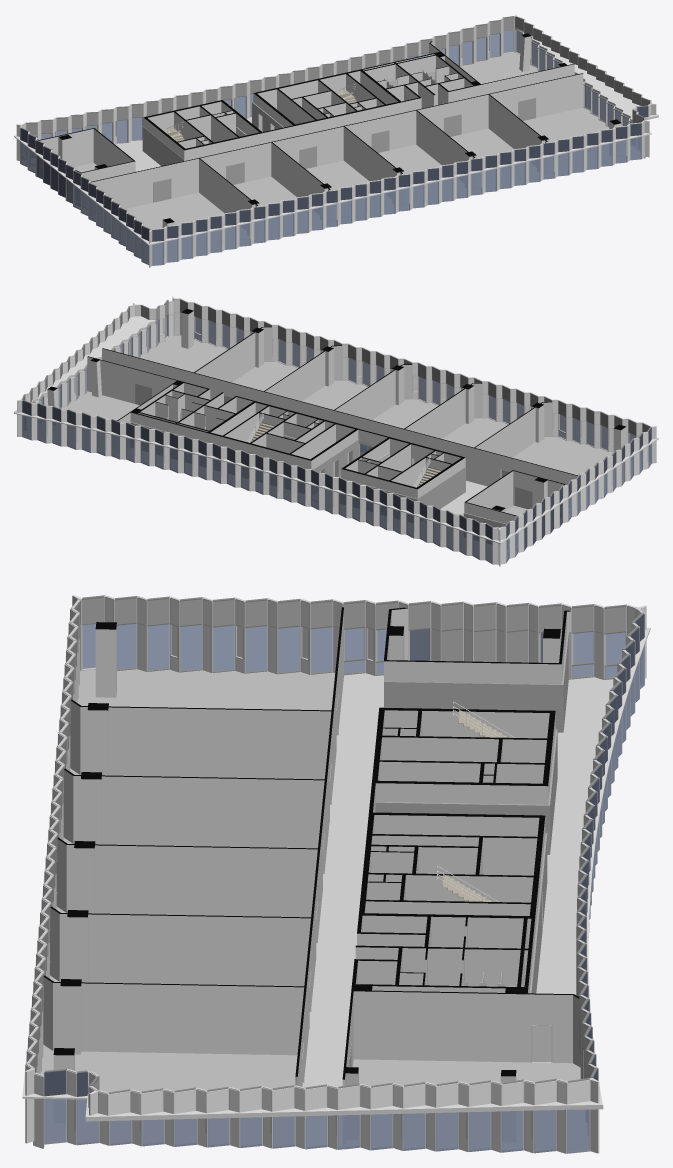
3 views of the same model, one above another, from view 1: azimuth 30°, elevation 25°; view 2: azimuth 150°, elevation 25°; view 3: azimuth 270°, elevation 25° (orthographic). The views are drawn at different scales.
Visible parts, largest first — view 1: A5-11F_Wall, A5-11F_GlassFrame, A5-11F_Glass, A5-11F_Floor, A5-11F_Exterior, A5-11F_Door, A5-11F_Pillar, A5-11F_Wall2, A5-11F_Stairs; view 2: A5-11F_Wall, A5-11F_GlassFrame, A5-11F_Glass, A5-11F_Floor, A5-11F_Pillar, A5-11F_Exterior, A5-11F_Wall2, A5-11F_Door, A5-11F_Stairs; view 3: A5-11F_Wall, A5-11F_GlassFrame, A5-11F_Floor, A5-11F_Glass, A5-11F_Pillar, A5-11F_Wall2, A5-11F_Exterior, A5-11F_Door, A5-11F_Stairs.
Boxes of the visible parts, box(x1,y1,x2,y2) form: A5-11F_Wall: box(37, 41, 583, 240); A5-11F_GlassFrame: box(20, 16, 651, 265); A5-11F_Glass: box(20, 30, 648, 265); A5-11F_Floor: box(23, 52, 639, 263); A5-11F_Exterior: box(14, 14, 658, 267); A5-11F_Door: box(153, 97, 536, 202); A5-11F_Pillar: box(58, 33, 621, 256); A5-11F_Wall2: box(135, 102, 283, 171); A5-11F_Stairs: box(163, 83, 356, 141); A5-11F_Wall: box(87, 326, 578, 523); A5-11F_GlassFrame: box(21, 298, 651, 564); A5-11F_Glass: box(22, 306, 651, 563); A5-11F_Floor: box(24, 335, 649, 561); A5-11F_Pillar: box(47, 309, 626, 512); A5-11F_Exterior: box(14, 296, 658, 566); A5-11F_Wall2: box(130, 422, 516, 550); A5-11F_Door: box(127, 383, 532, 509); A5-11F_Stairs: box(245, 411, 441, 487); A5-11F_Wall: box(43, 607, 579, 1146); A5-11F_GlassFrame: box(25, 595, 644, 1153); A5-11F_Floor: box(40, 669, 613, 1151); A5-11F_Glass: box(25, 601, 644, 1153); A5-11F_Pillar: box(53, 622, 560, 1141); A5-11F_Wall2: box(375, 632, 571, 993); A5-11F_Exterior: box(22, 595, 650, 1153); A5-11F_Door: box(302, 694, 552, 1086); A5-11F_Stairs: box(437, 701, 514, 901).
Bounding box in the file's own units: 63.23 × 5.55 × 33.45.
